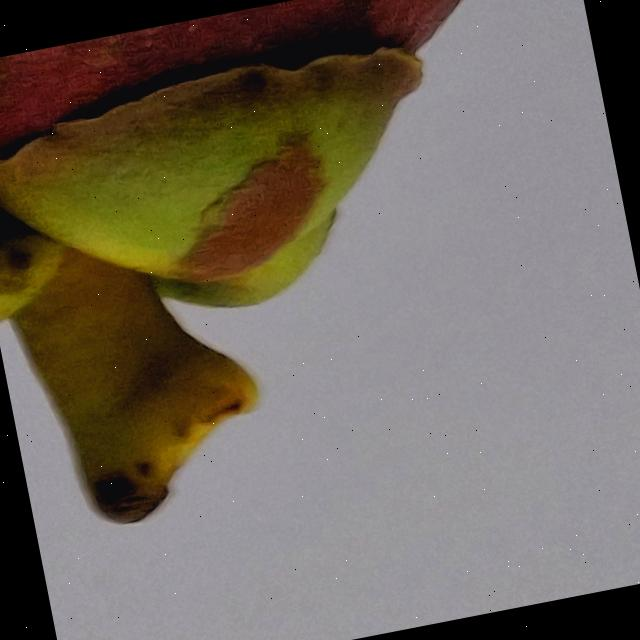mangosteen: (0, 0, 640, 548)
